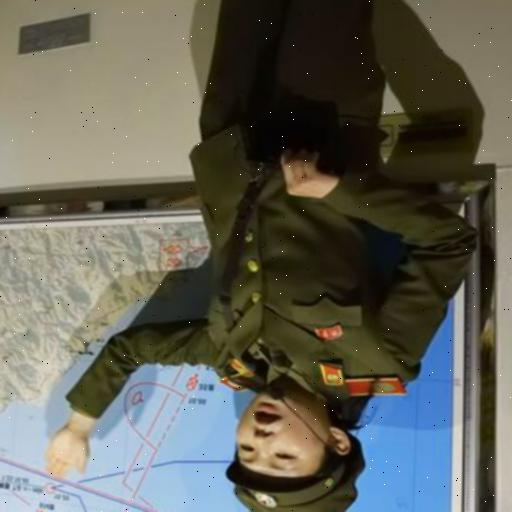north army: (81, 6, 478, 512)
